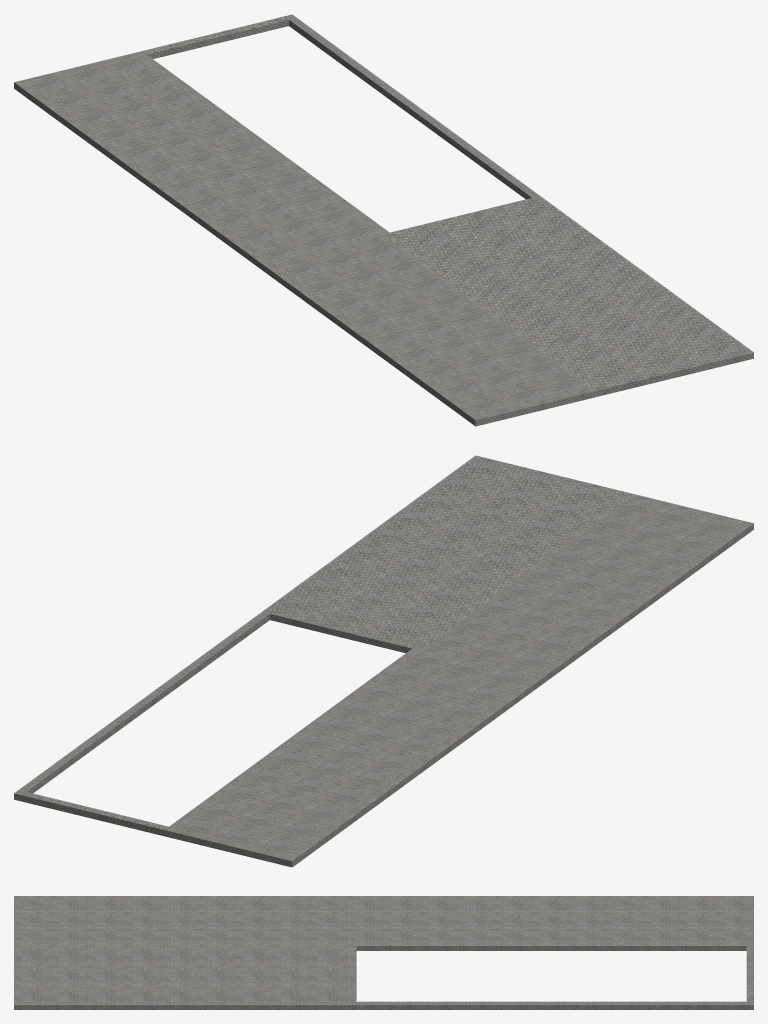
Rendered from containerbuildingstaircase_metaldiamondplated_dm_0_lev1.glb.
3 views of the same model, one above another, from view 1: azimuth 30°, elevation 25°; view 2: azimuth 150°, elevation 25°; view 3: azimuth 270°, elevation 25° (orthographic). The views are drawn at different scales.
Visible parts, largest first — view 1: containerbuildingstaircase_metaldiamondplated_dm_0_lev1; view 2: containerbuildingstaircase_metaldiamondplated_dm_0_lev1; view 3: containerbuildingstaircase_metaldiamondplated_dm_0_lev1.
Boxes of the visible parts, x1,y1,x2,y2 form: containerbuildingstaircase_metaldiamondplated_dm_0_lev1: (14, 14, 753, 426); containerbuildingstaircase_metaldiamondplated_dm_0_lev1: (14, 455, 753, 867); containerbuildingstaircase_metaldiamondplated_dm_0_lev1: (14, 896, 753, 1009).
Bounding box in the file's own units: 1.86 × 0.0403 × 5.35.
1 material, 1 textured.
